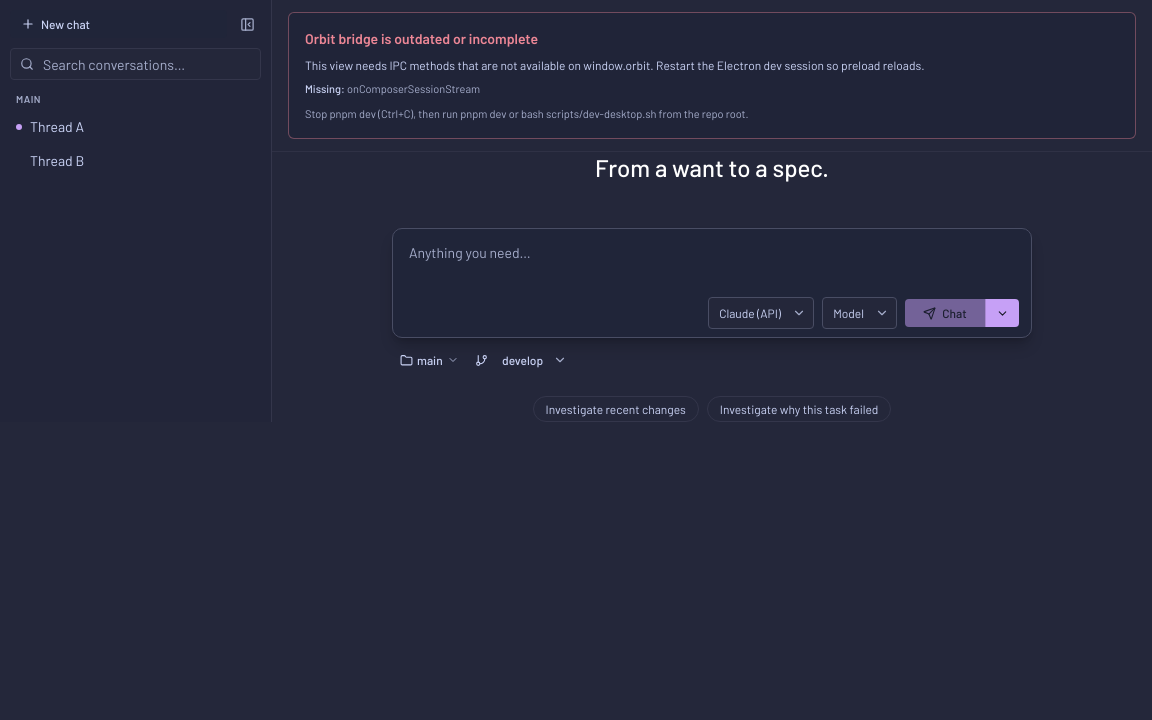
ChatView › keeps current thread view when another thread send resolves later
Click the button "Thread A": (136, 127) [8, 111, 263, 143]
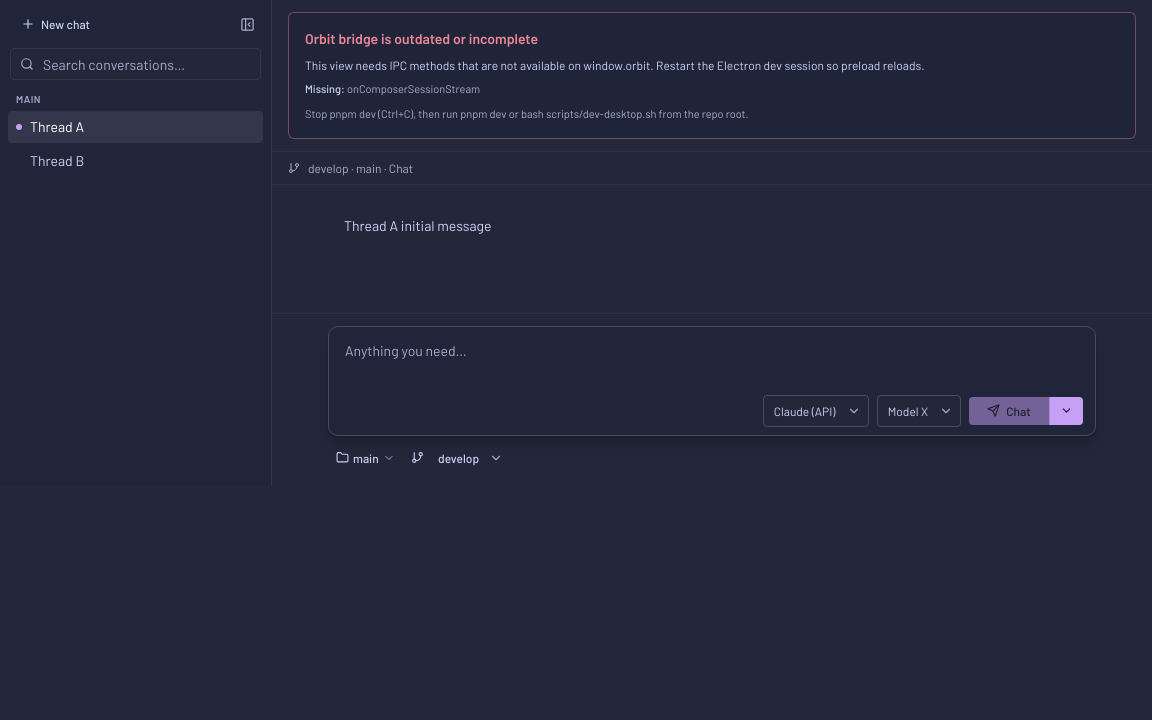
Expected: the text "Thread A initial message" is shown, [344, 217, 492, 234]
In the text box with placeholder "Anything you need…": (712, 363) [337, 335, 1087, 391], type "send from A"
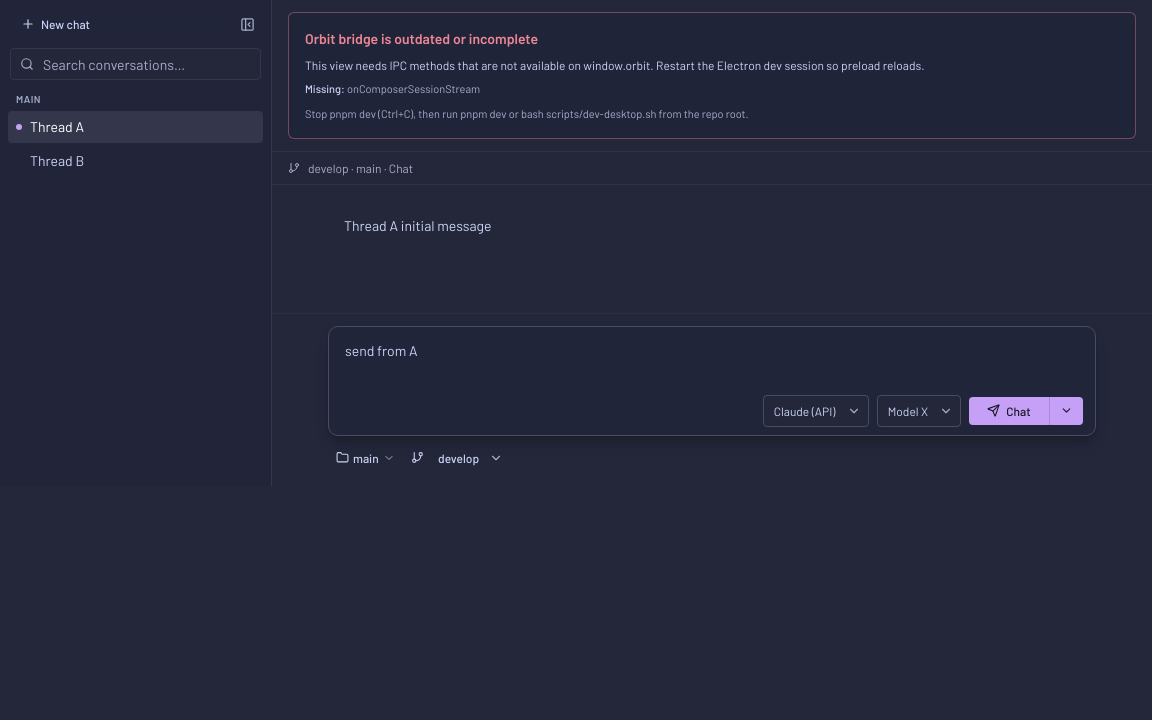
Click the button "Chat": (1009, 411) [969, 397, 1049, 425]
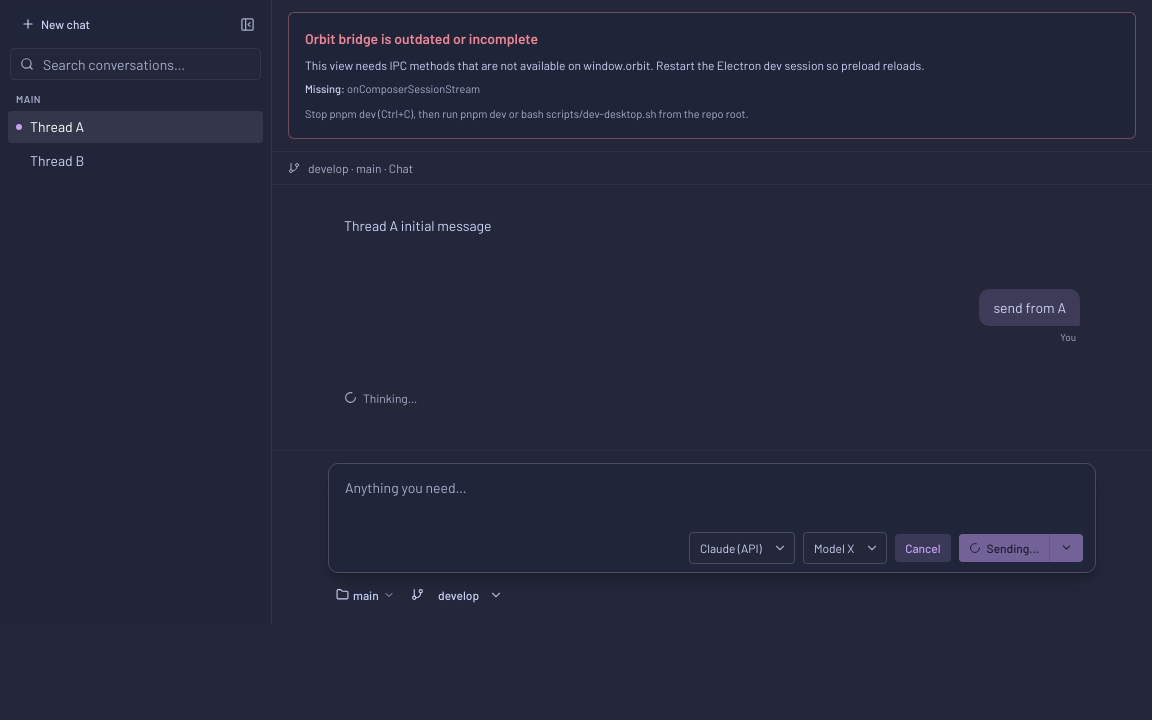
Click the button "Thread B": (136, 161) [8, 145, 263, 177]
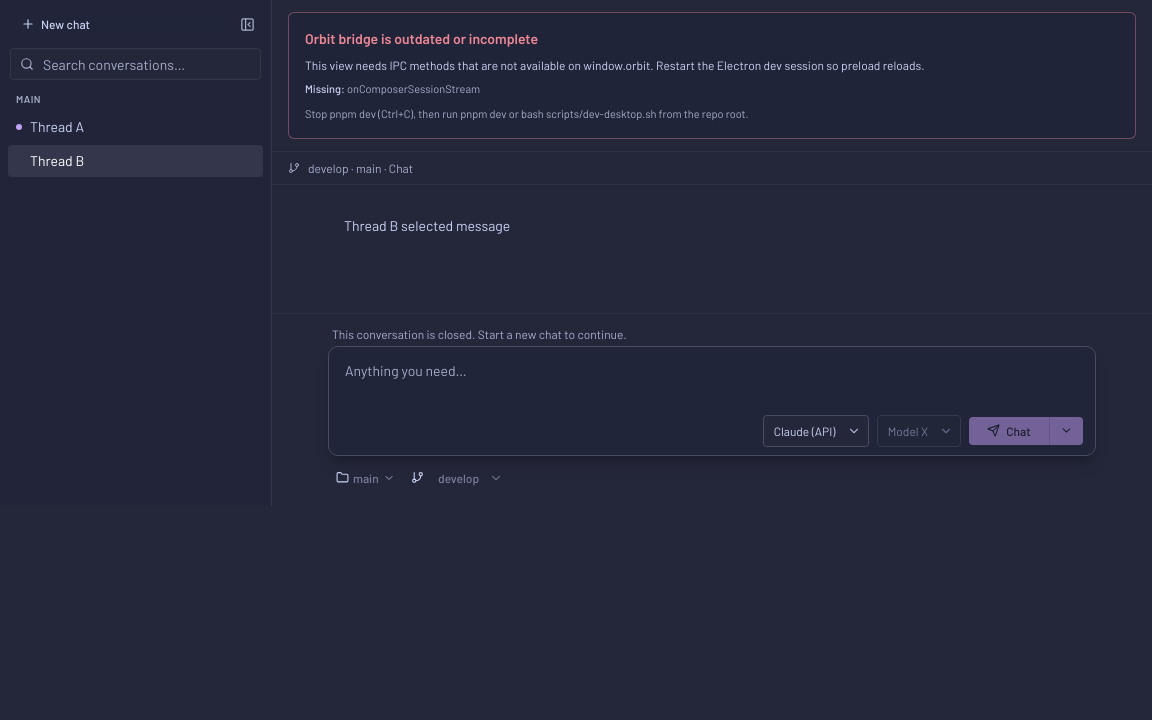
Expected: the text "Thread B selected message" is shown, [344, 217, 510, 234]
